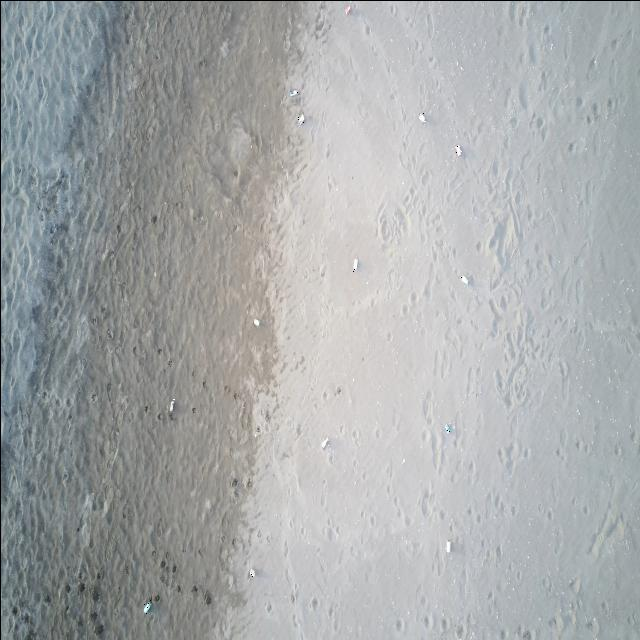Garbage: (417, 111, 426, 123), (168, 397, 175, 412), (143, 600, 151, 613), (320, 437, 328, 448), (455, 144, 462, 156), (344, 4, 351, 15), (296, 113, 303, 124), (444, 423, 452, 432), (288, 89, 298, 96), (446, 540, 451, 552), (247, 568, 254, 576), (460, 275, 467, 283), (353, 258, 357, 272), (252, 319, 259, 326)
